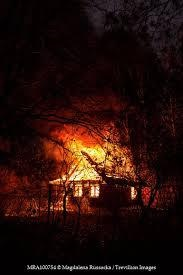fire: (50, 129, 128, 201)
